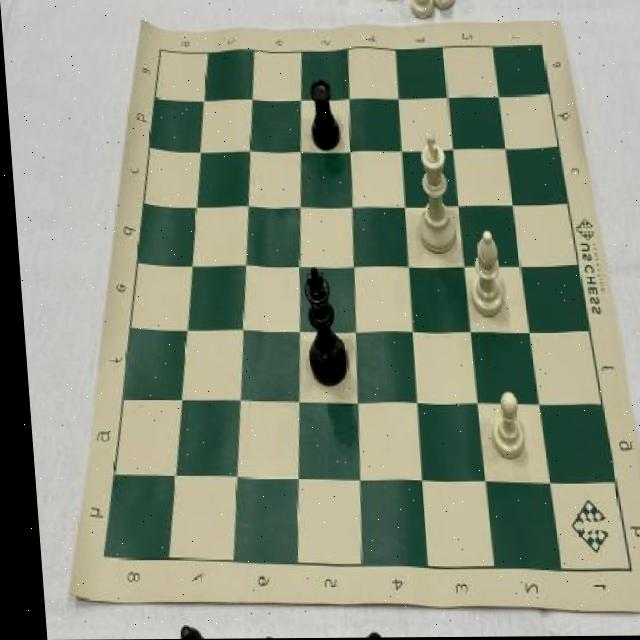black-bishop: (294, 263, 347, 390)
black-queen: (304, 78, 342, 156)
black-rook: (462, 228, 505, 318)
white-bishop: (406, 128, 455, 257)
white-knight: (483, 389, 522, 465)
